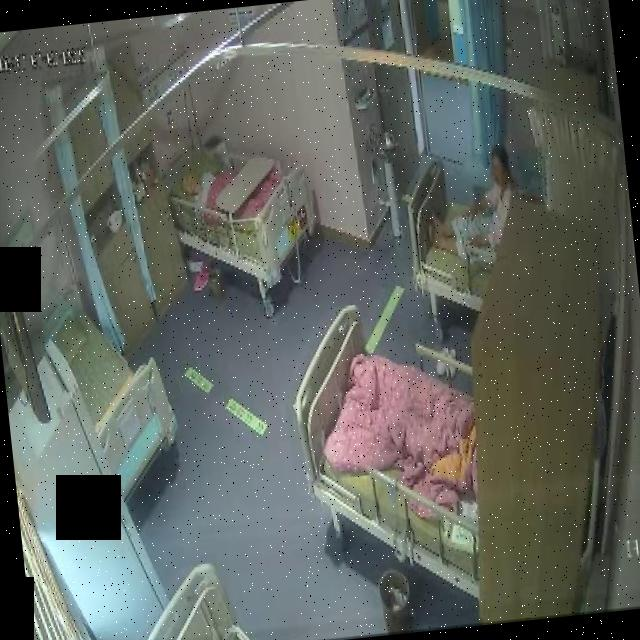bed: (290, 299, 492, 582), (162, 119, 320, 284), (46, 277, 170, 467), (399, 148, 510, 314)
patient: (422, 142, 520, 268), (178, 164, 225, 213)
sit: (418, 143, 520, 267)
